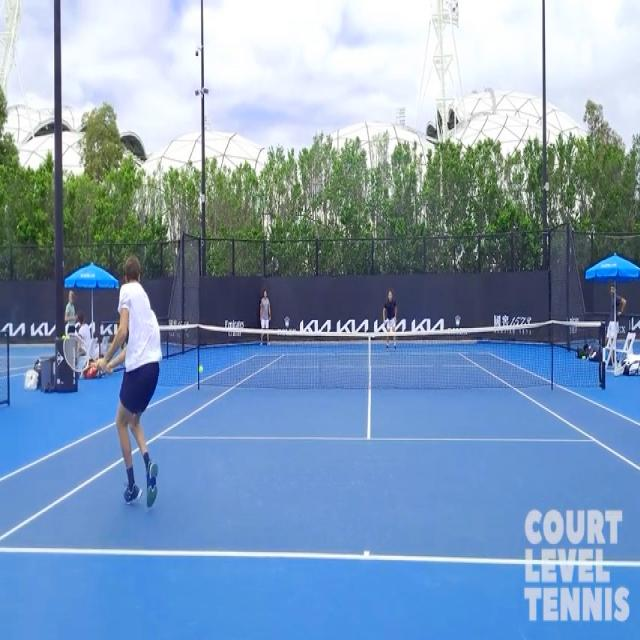backhand-ready: (62, 257, 180, 521)
